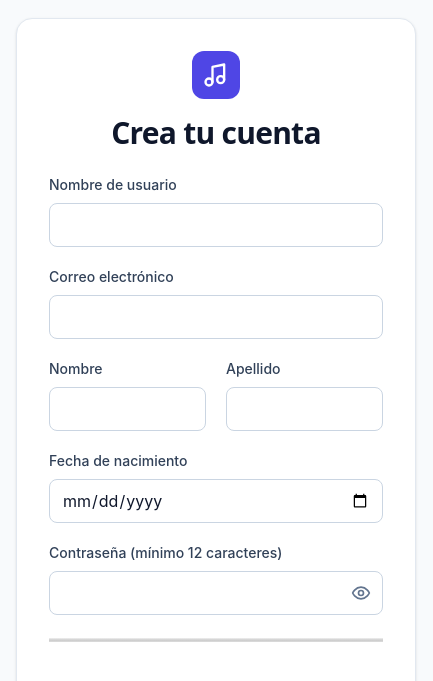
Test case: TEST-FE-AUTH › AUTH-007 registra y redirige a login con aviso
Type "Ana" into the field labelled "Nombre" at (128, 409), box left=49, top=387, right=206, bottom=431
Type "Garcia" into the field labelled "Apellido" at (304, 409), box left=226, top=387, right=383, bottom=431
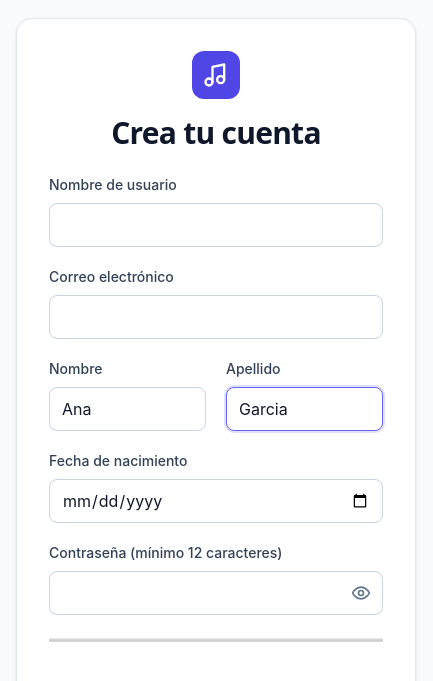
Type "ana" into the field labelled "Nombre de usuario" at (216, 225), box left=49, top=203, right=383, bottom=247
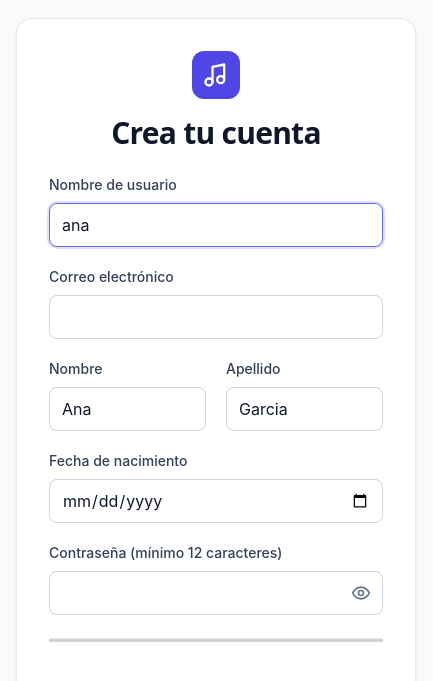
Type "ana@example.com" into the field labelled "Correo electrónico" at (216, 317), box left=49, top=295, right=383, bottom=339
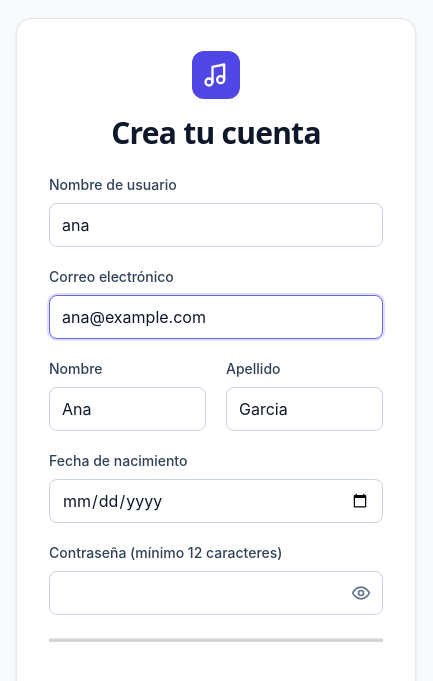
Type "2000-01-01" into the date field labelled "Fecha de nacimiento" at (216, 501), box left=49, top=479, right=383, bottom=523
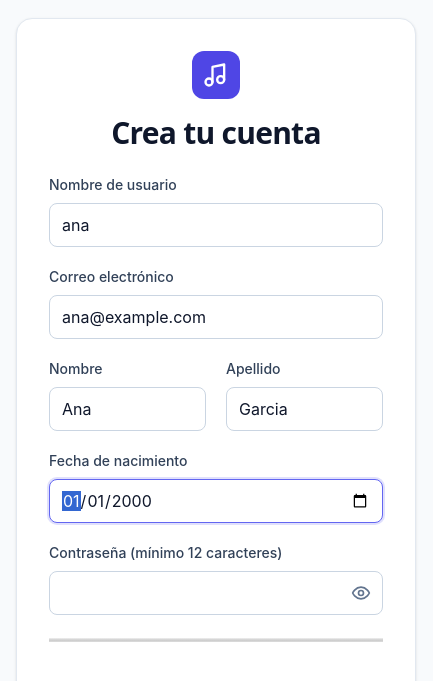
Type "contraseña-segura-123" into the password field labelled "Contraseña (mínimo 12 caracteres)" at (216, 593), box left=49, top=571, right=383, bottom=615
(page scrolled)
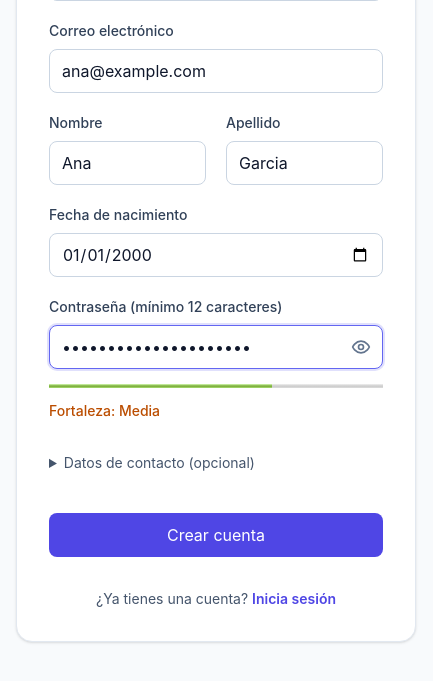
Click the button "Crear cuenta" at (216, 535), box left=49, top=513, right=383, bottom=557
(page scrolled)
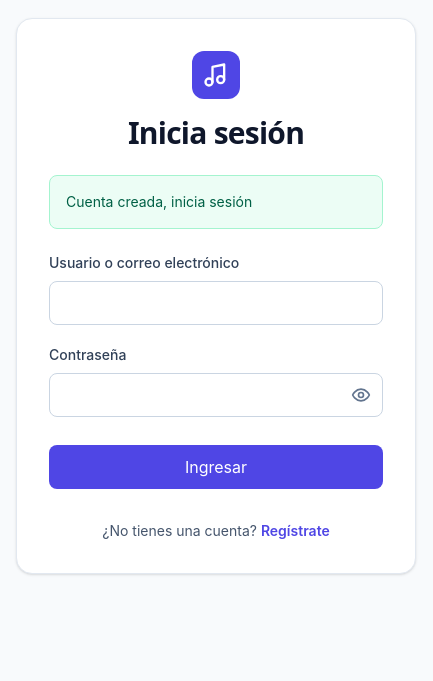
Expected: the text "Cuenta creada, inicia sesión" is shown, left=66, top=192, right=252, bottom=212
